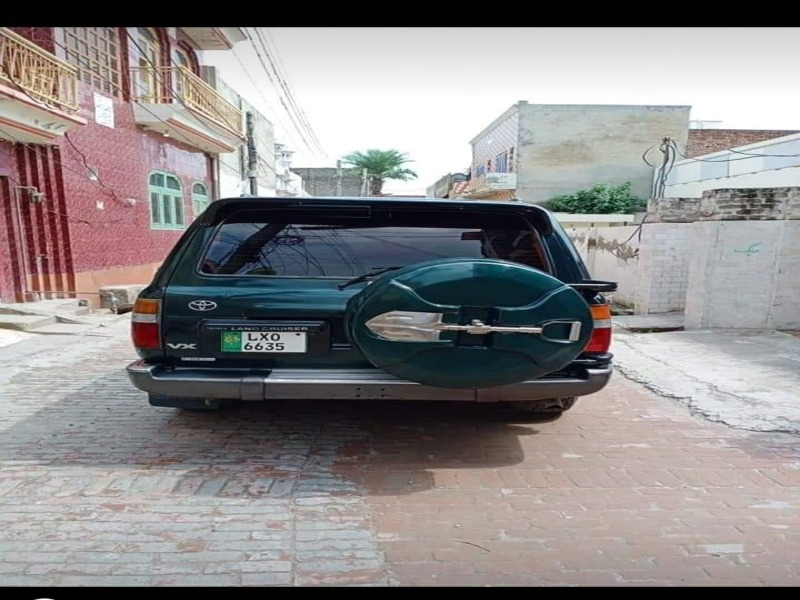License Plate: (214, 321, 316, 358)
